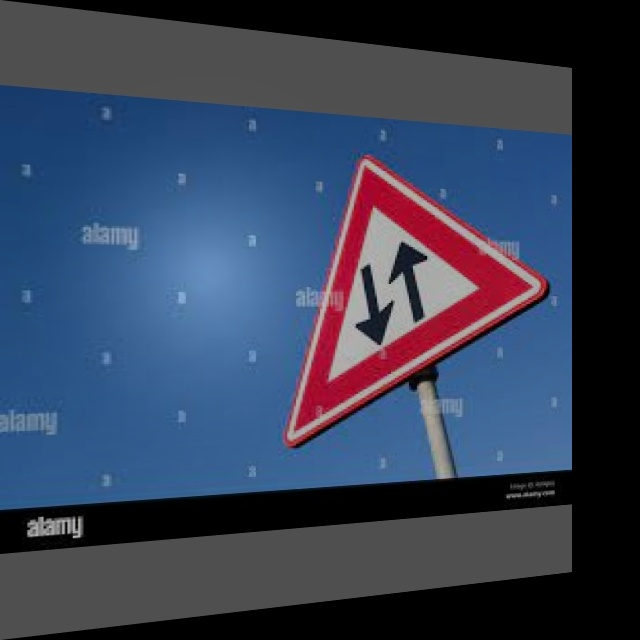Mandatory_Two_Way_Traffic: (280, 153, 541, 417)
